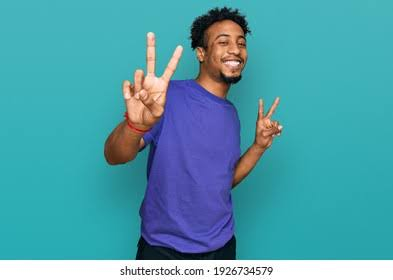peace_sign: (123, 29, 185, 129), (253, 94, 288, 151)
